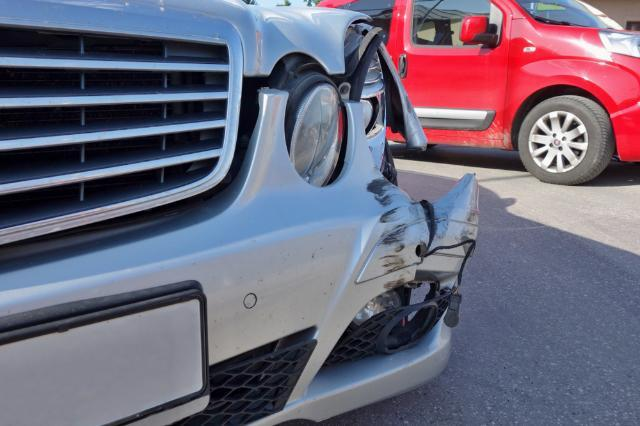scratch: (367, 177, 409, 289)
